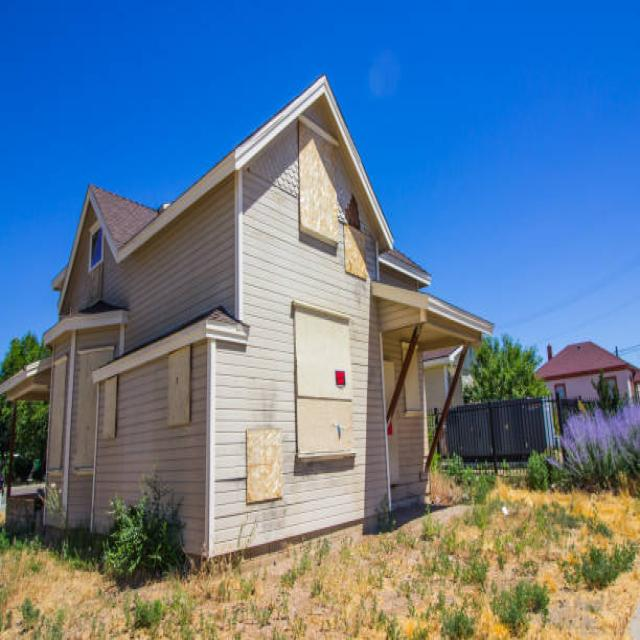House: (0, 70, 493, 559), (529, 334, 640, 400)
